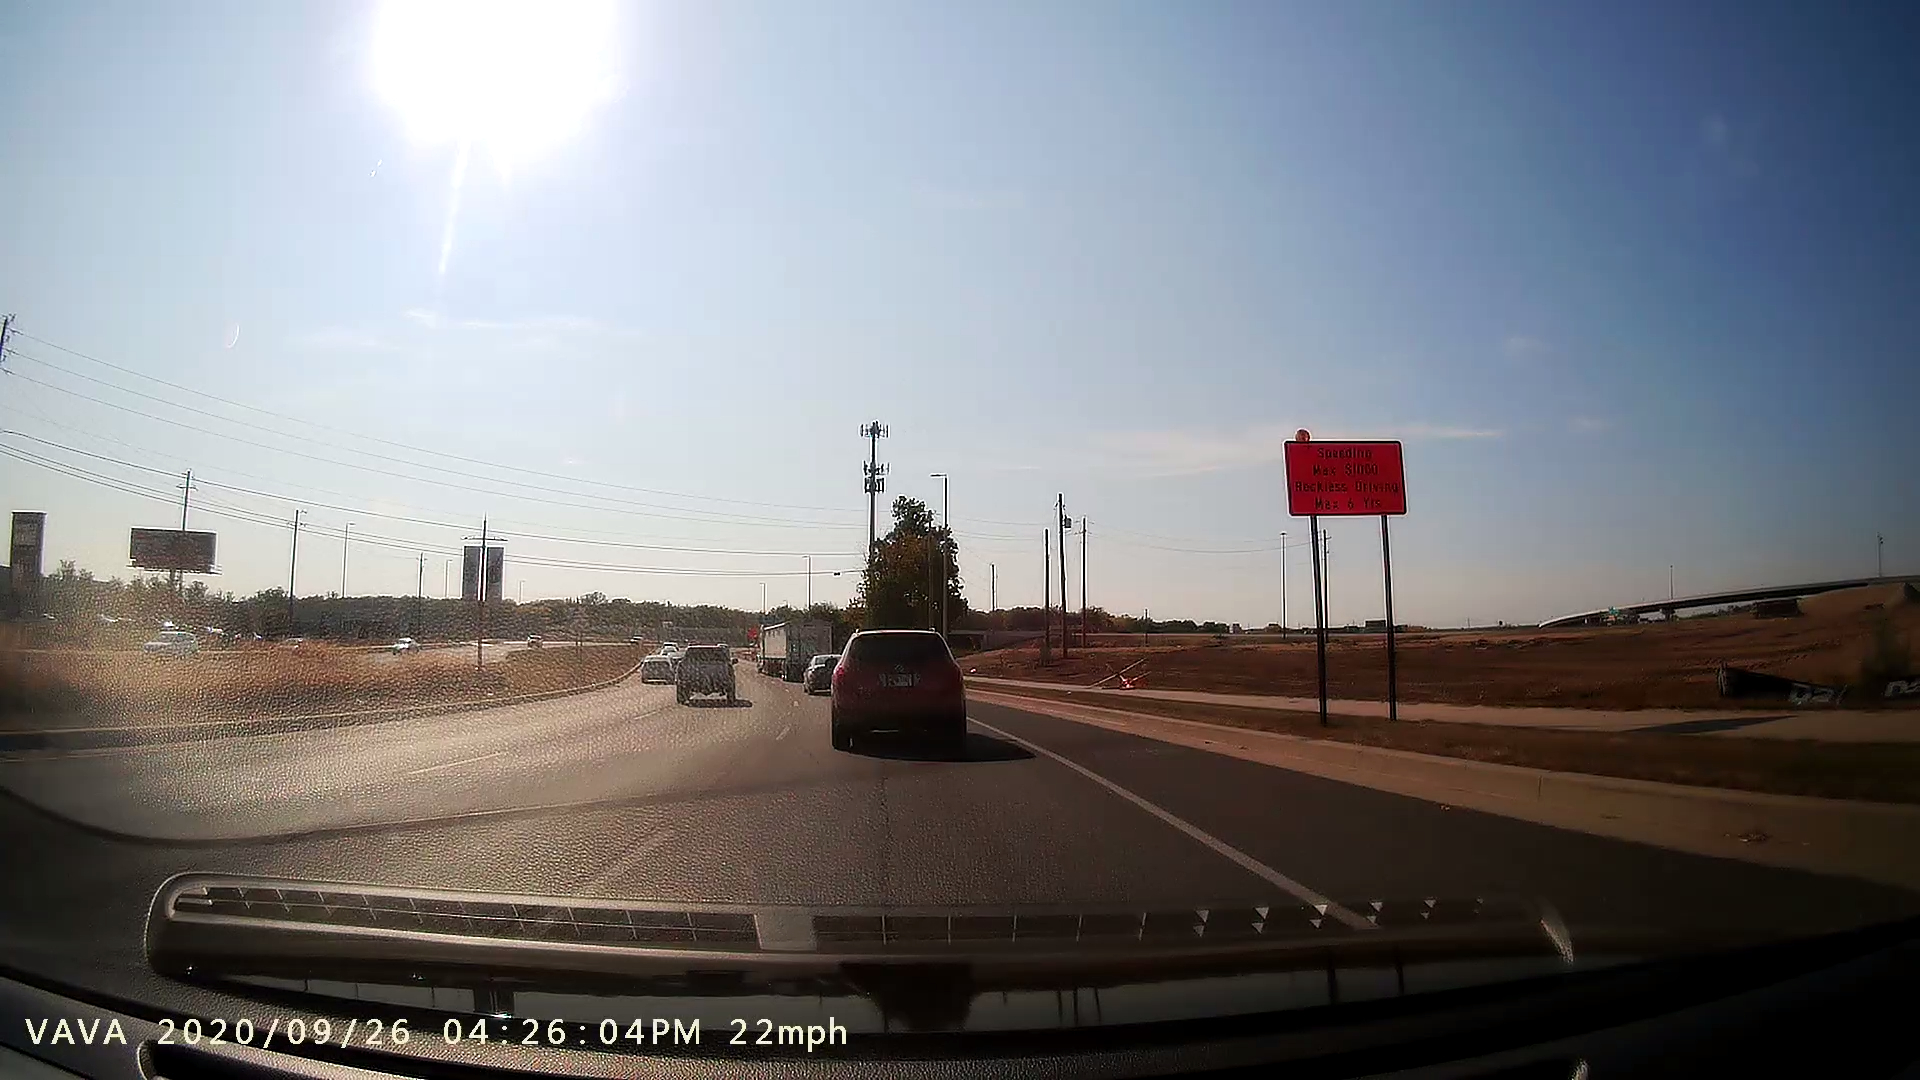temperary_sign: (1276, 407, 1427, 742)
